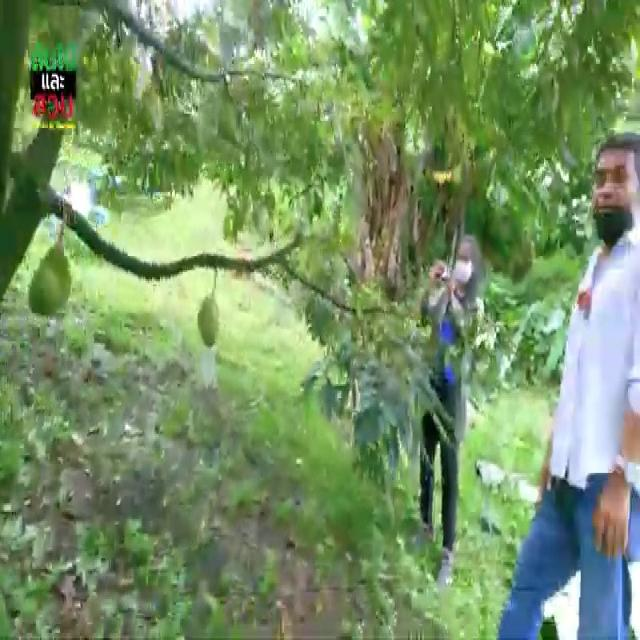durian: (27, 246, 72, 320), (195, 292, 221, 349)
